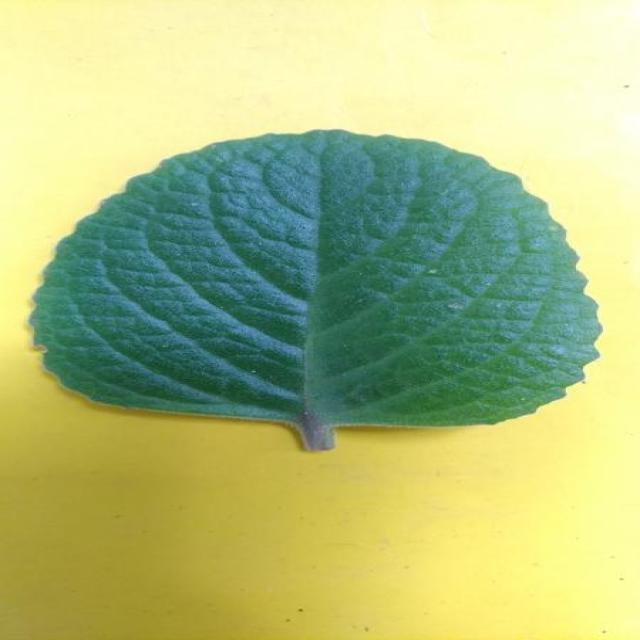doddpathre: (32, 130, 600, 449)
